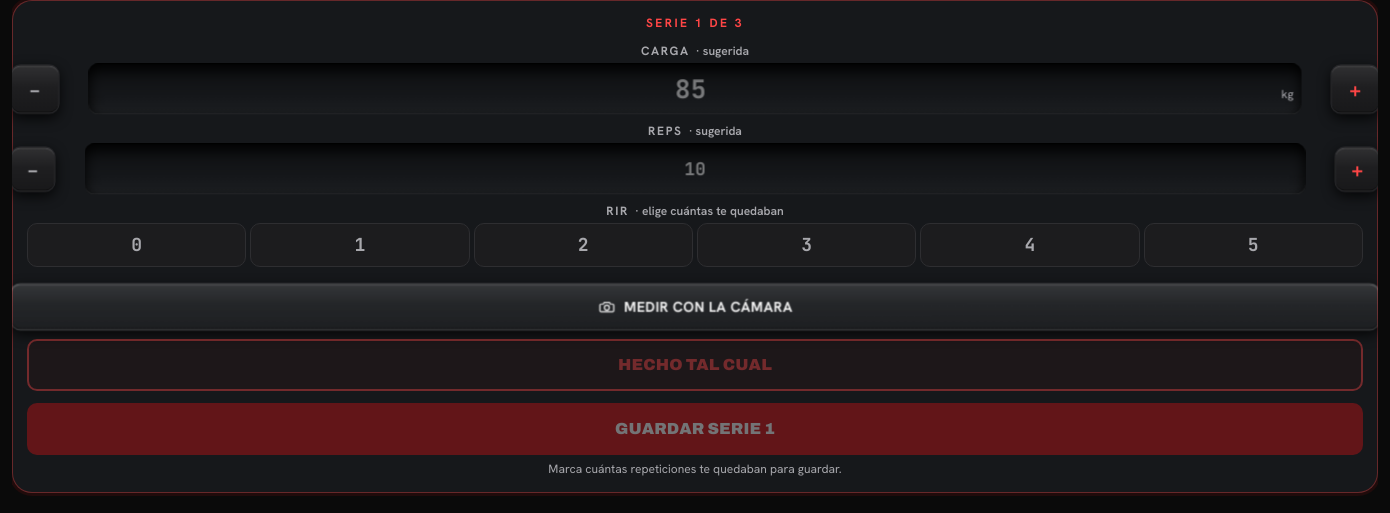
Test: RegistroSerie (tarjeta de la sesión) · el esfuerzo es obligatorio › soltar el RIR (tocar el mismo botón) vuelve a apagar el guardado
Click the button named "Subir Carga" at (1354, 89), box x1=1331 y1=65 x2=1378 y2=114
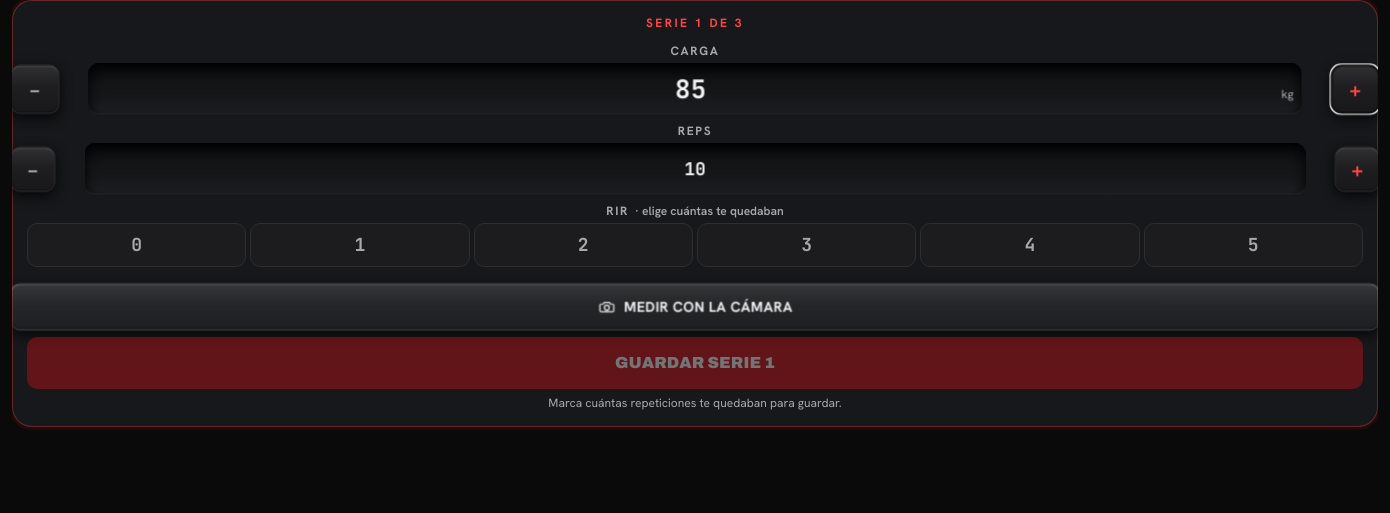
Click the button named "RIR 3" at (807, 245), box x1=697 y1=223 x2=916 y2=267
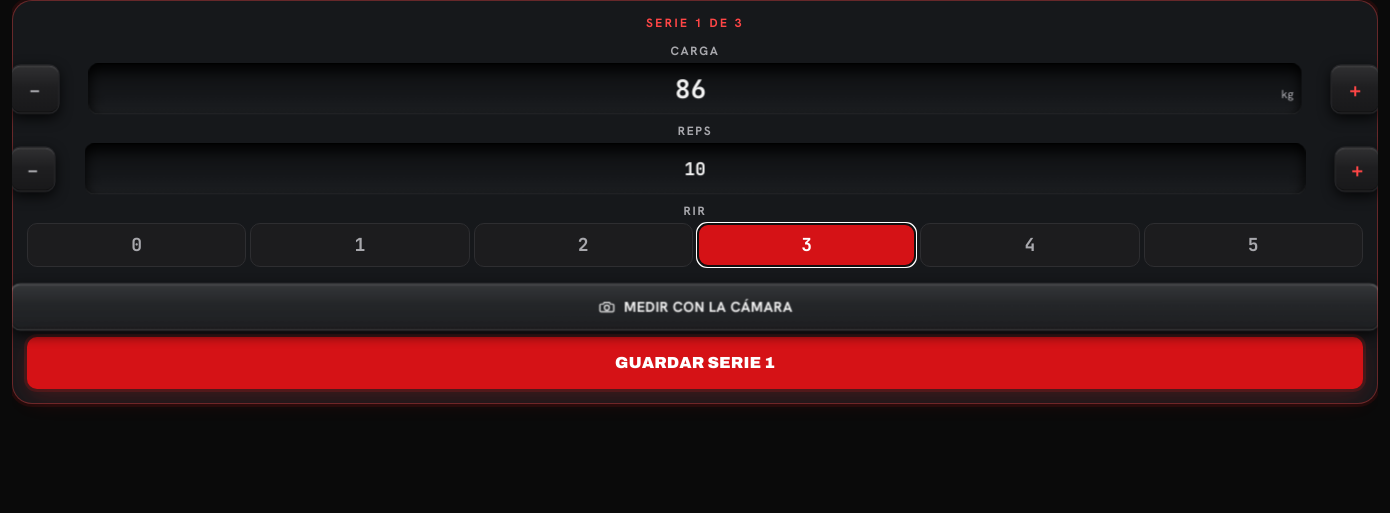
Click the button named "RIR 3" at (807, 245), box x1=697 y1=223 x2=916 y2=267
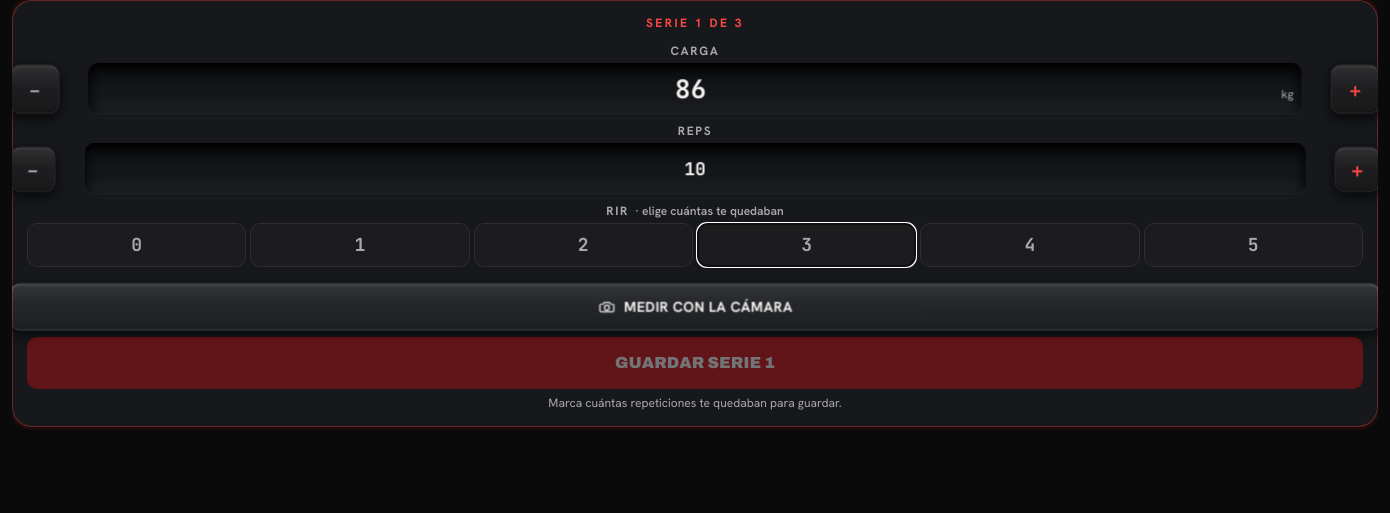
Check: the button "Guardar serie 1" is disabled, box x1=27 y1=337 x2=1363 y2=389
